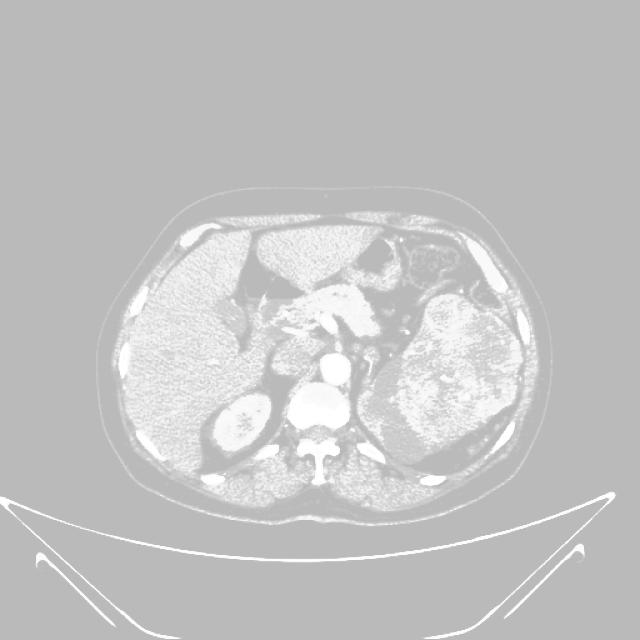TUMOR: (339, 262, 593, 510)
